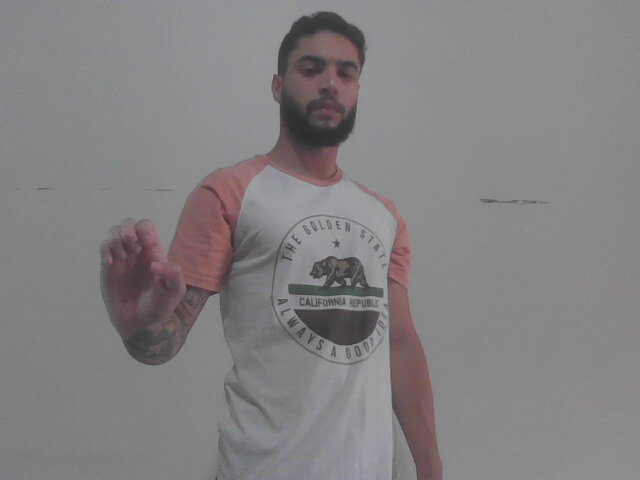e: (93, 217, 192, 344)
